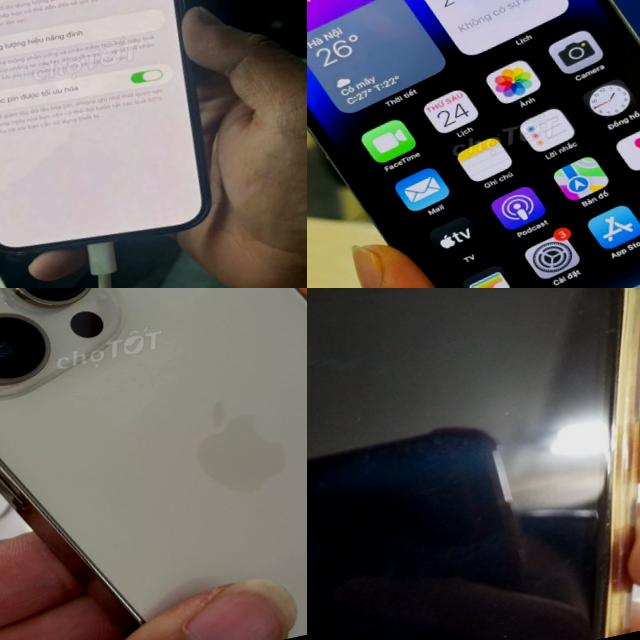gen_12_13: (307, 288, 640, 640), (0, 0, 233, 285)
gen_14: (0, 288, 307, 640), (307, 0, 640, 288)
